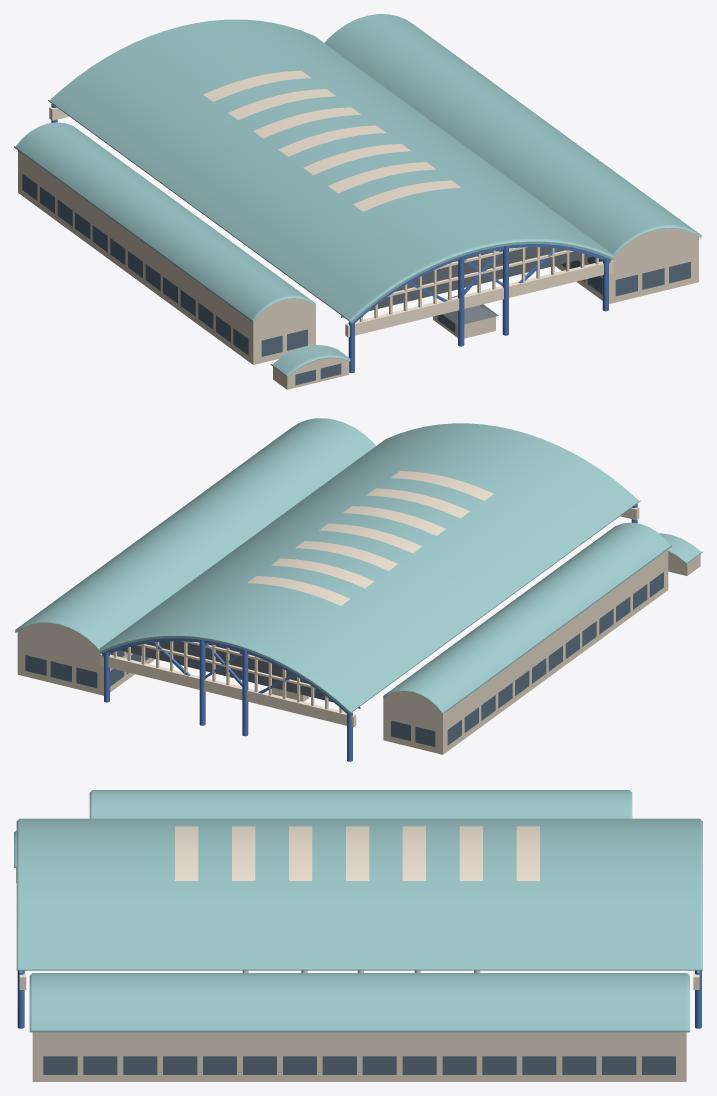
File: charlotte-transportation-center.glb
The picture shows the model from 3 angles, top to bottom: view 1: azimuth 30°, elevation 25°; view 2: azimuth 150°, elevation 25°; view 3: azimuth 270°, elevation 25°; orthographic projection. The views are drawn at different scales.
Parts seen in each view (by area): view 1: Charlotte Transportation Center; view 2: Charlotte Transportation Center; view 3: Charlotte Transportation Center.
Part boxes in pixels (<box>): Charlotte Transportation Center: <box>14,14,701,389</box>; Charlotte Transportation Center: <box>15,418,702,761</box>; Charlotte Transportation Center: <box>14,790,702,1081</box>.
Bounding box in the file's own units: 86.2 × 18.76 × 106.
